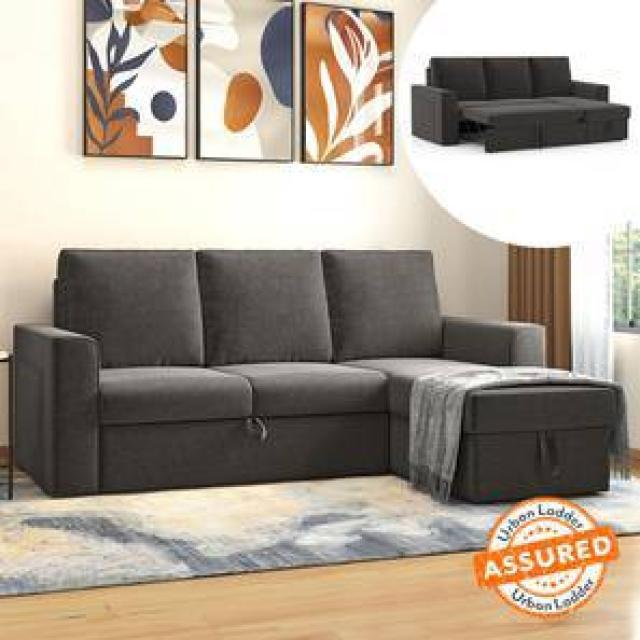sofa: (8, 246, 626, 504), (410, 54, 630, 151)
